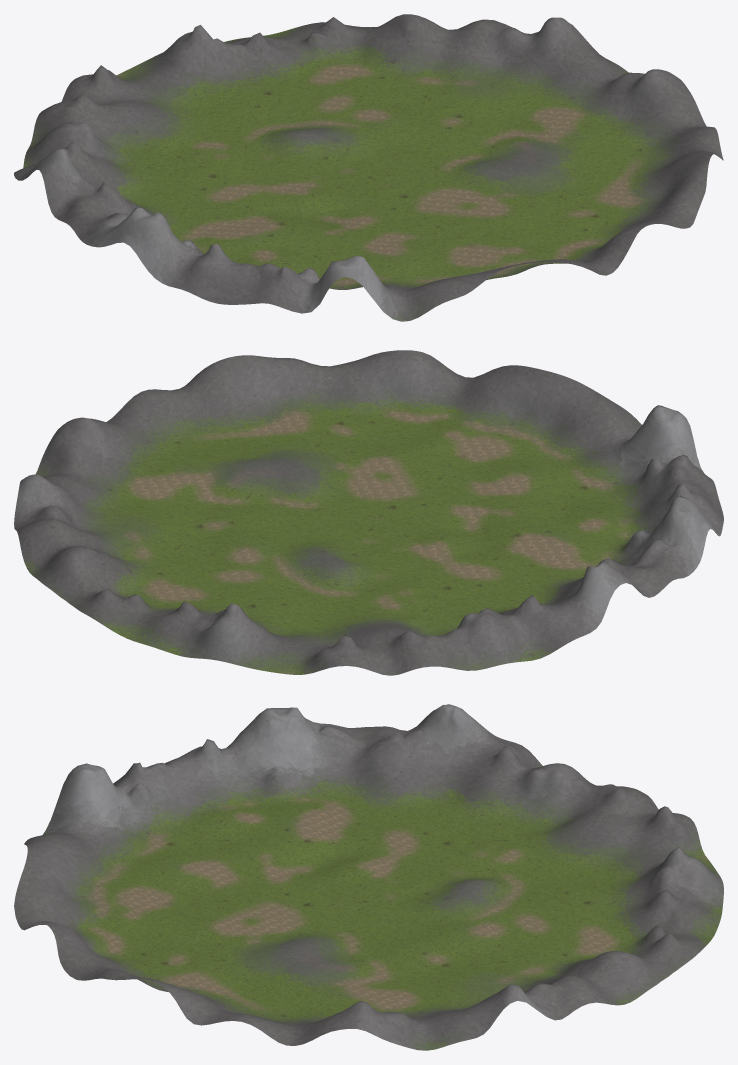
The model's file is 1kMinusNormal.glb.
3 renders of one model, top to bottom at view 1: azimuth 30°, elevation 25°; view 2: azimuth 150°, elevation 25°; view 3: azimuth 270°, elevation 25°, orthographic. The views are drawn at different scales.
Parts seen in each view (by area): view 1: Mesh_0; view 2: Mesh_0; view 3: Mesh_0.
Part boxes in pixels (bbox=[...]): Mesh_0: bbox=[14, 14, 723, 321]; Mesh_0: bbox=[14, 350, 723, 675]; Mesh_0: bbox=[14, 704, 723, 1050].
Size of the model in its own units: 573 by 58.76 by 566.
1 material, 1 textured.
